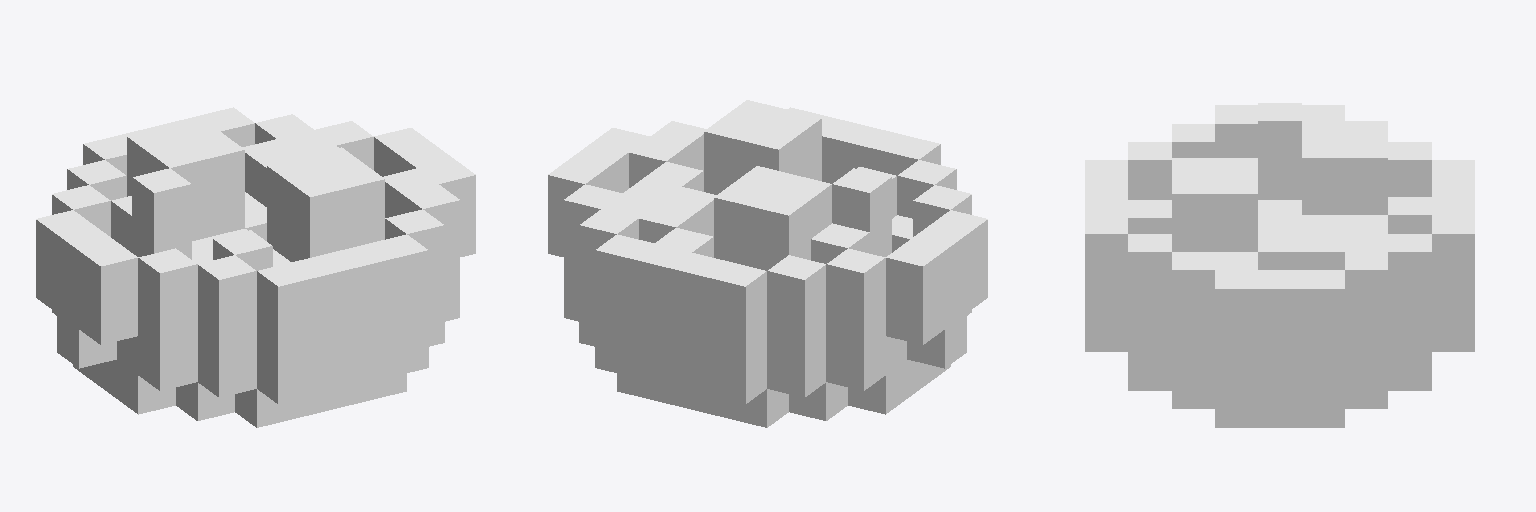
File: gnezdo01.obj
3 renders of one model, left to right at view 1: azimuth 30°, elevation 25°; view 2: azimuth 150°, elevation 25°; view 3: azimuth 270°, elevation 25°, orthographic.
Parts seen in each view (by area): view 1: object 1; view 2: object 1; view 3: object 1.
Boxes of the visible parts, x1,y1,x2,y2 form: object 1: [36, 107, 475, 427]; object 1: [548, 100, 987, 427]; object 1: [1085, 103, 1474, 427].
Size of the model in its own units: 1 by 0.5 by 0.9.